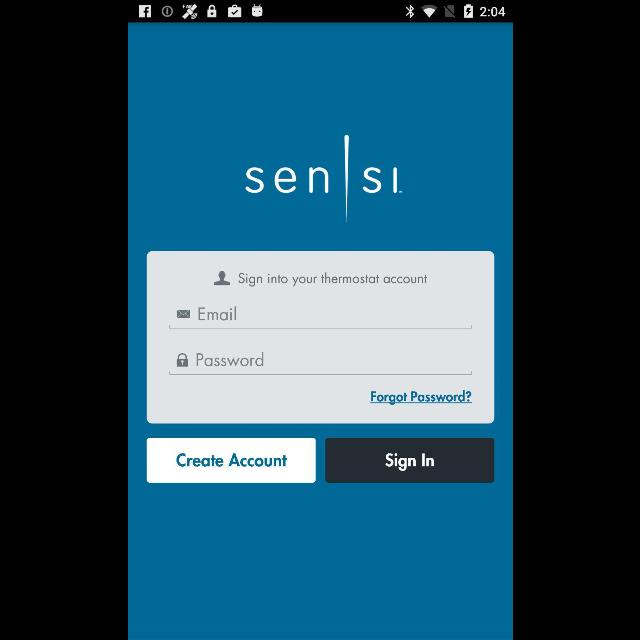icon: (213, 271, 229, 285), (176, 354, 188, 366), (177, 310, 190, 318)
image: (244, 134, 402, 223)
input: (168, 306, 472, 330), (169, 352, 471, 376)
panel: (146, 251, 494, 424)
text: (238, 273, 427, 287), (370, 390, 472, 404), (195, 353, 262, 367), (198, 307, 236, 321)
textbutton: (324, 438, 493, 482), (147, 438, 316, 482)
uppertaskbar: (128, 1, 512, 23)
